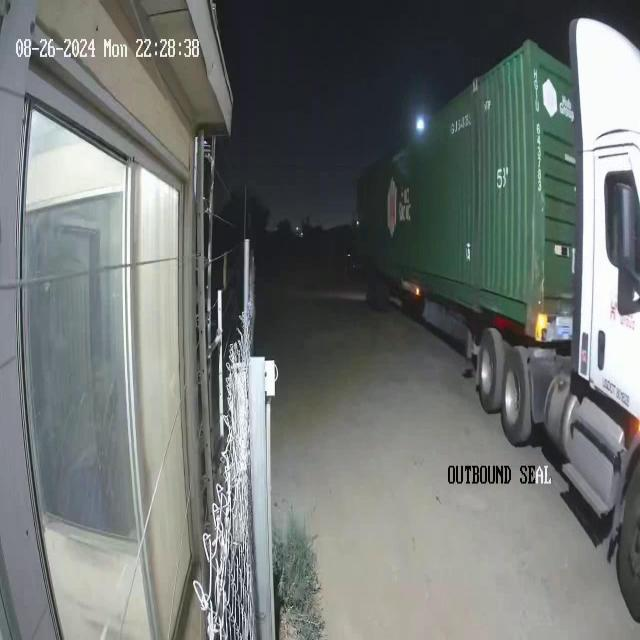TRUCK_CONTAINER: (355, 15, 640, 626)
